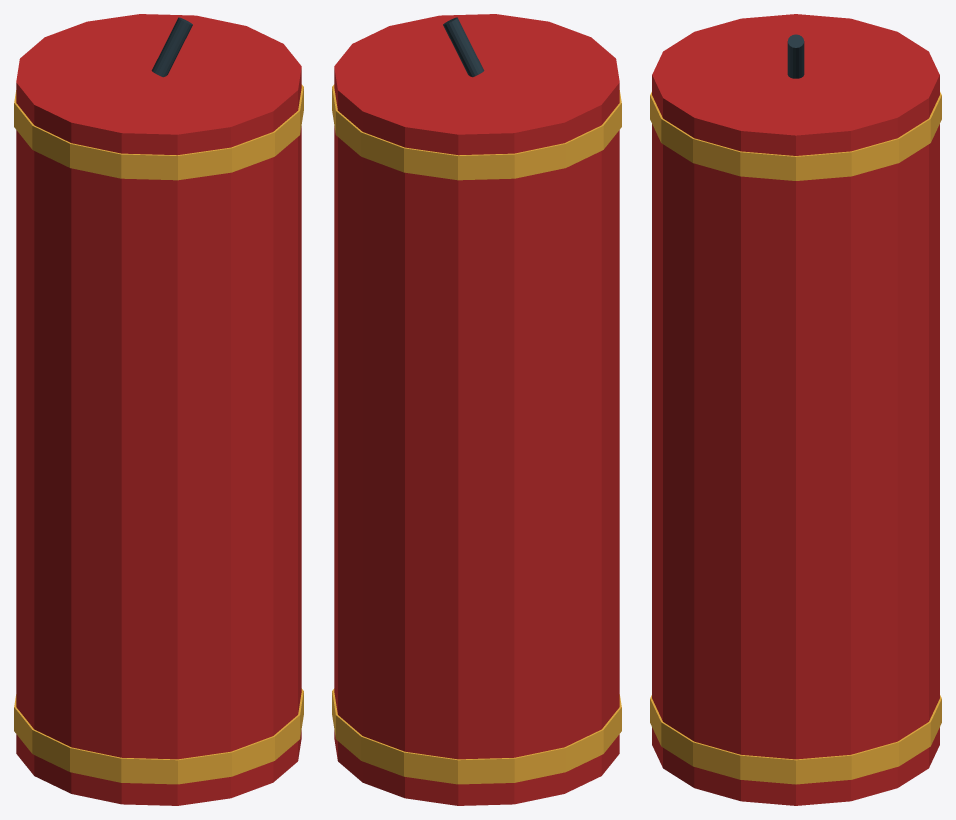
File: scendance-plan-cn-firework.glb
3 renders of one model, left to right at view 1: azimuth 30°, elevation 25°; view 2: azimuth 150°, elevation 25°; view 3: azimuth 270°, elevation 25°, orthographic.
Size of the model in its own units: 0.142 by 0.3871 by 0.142.
